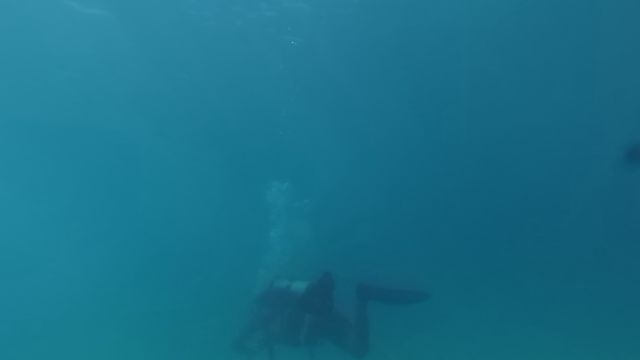Diver: (222, 259, 441, 354), (345, 271, 435, 320)
